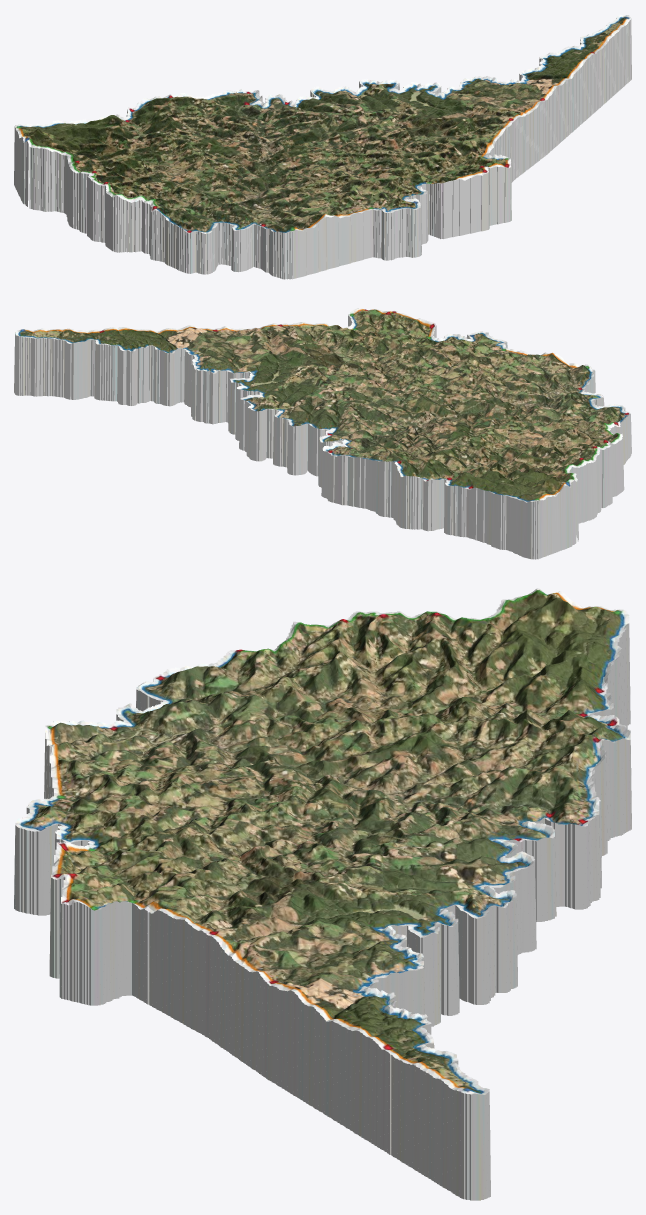
The picture shows the model from 3 angles, top to bottom: view 1: azimuth 30°, elevation 25°; view 2: azimuth 150°, elevation 25°; view 3: azimuth 270°, elevation 25°; orthographic projection. The views are drawn at different scales.
Bounding box in the file's own units: 1 × 0.1103 × 0.5232.
Materials: 1 (1 with a texture image).
